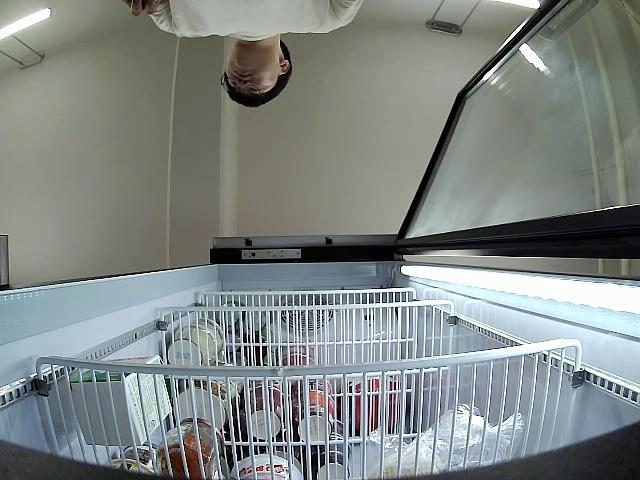00_hand: (113, 0, 170, 19)
